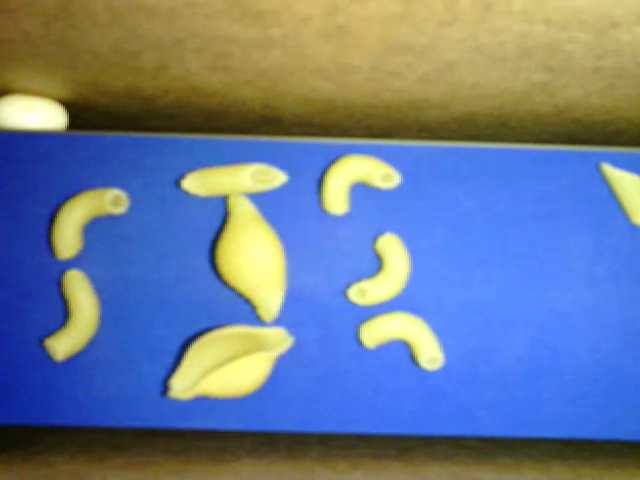elbow: (49, 188, 130, 259), (42, 270, 100, 362), (358, 309, 444, 371), (320, 153, 403, 215), (345, 231, 411, 304)
penne: (181, 163, 291, 197), (600, 162, 639, 227)
shell: (166, 325, 297, 400), (214, 192, 287, 325)
